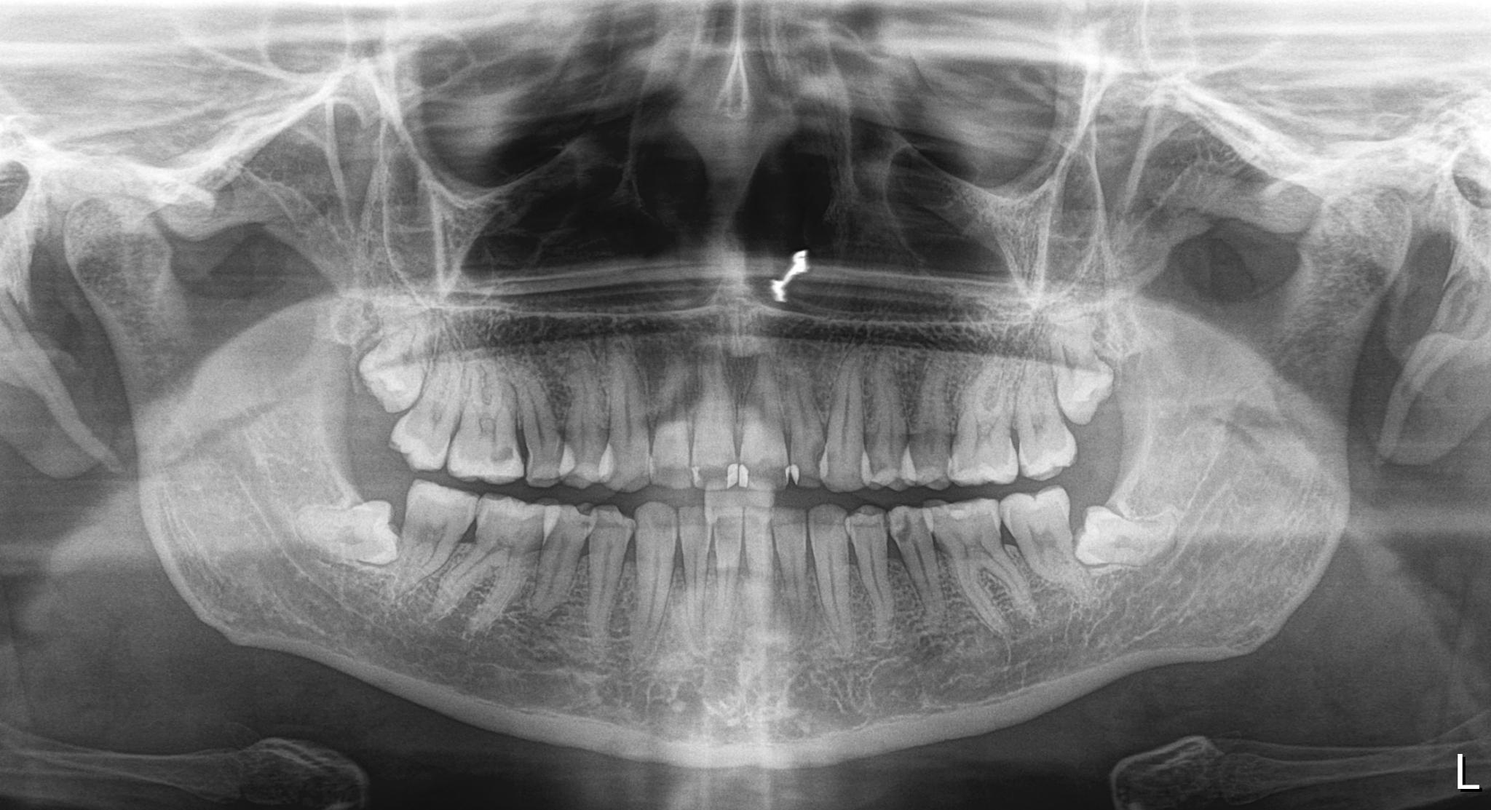Impacted Third Molar: (333, 302, 430, 418), (1067, 493, 1189, 574), (1041, 333, 1141, 421), (280, 508, 406, 565)
